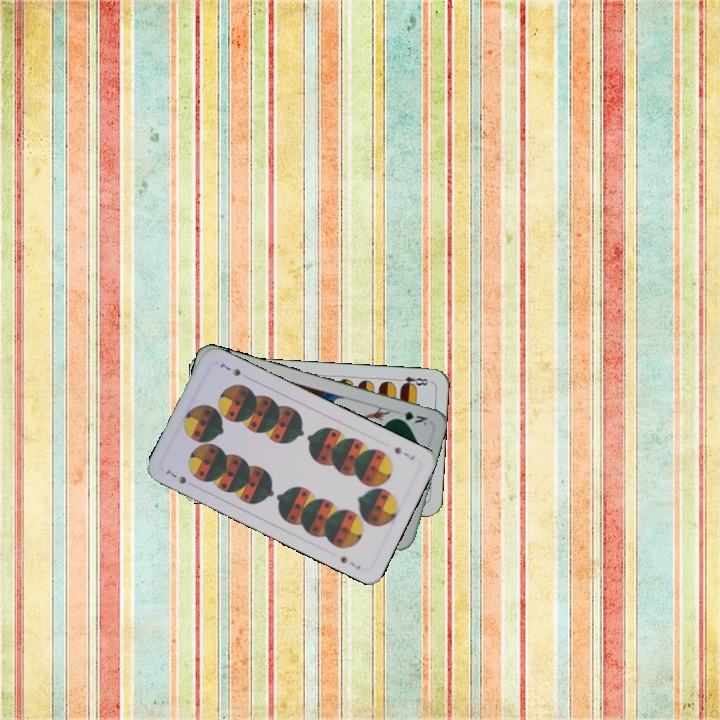E8: (392, 372, 433, 390)
GK: (390, 407, 430, 428)
S7: (161, 465, 189, 487), (390, 443, 417, 462)
